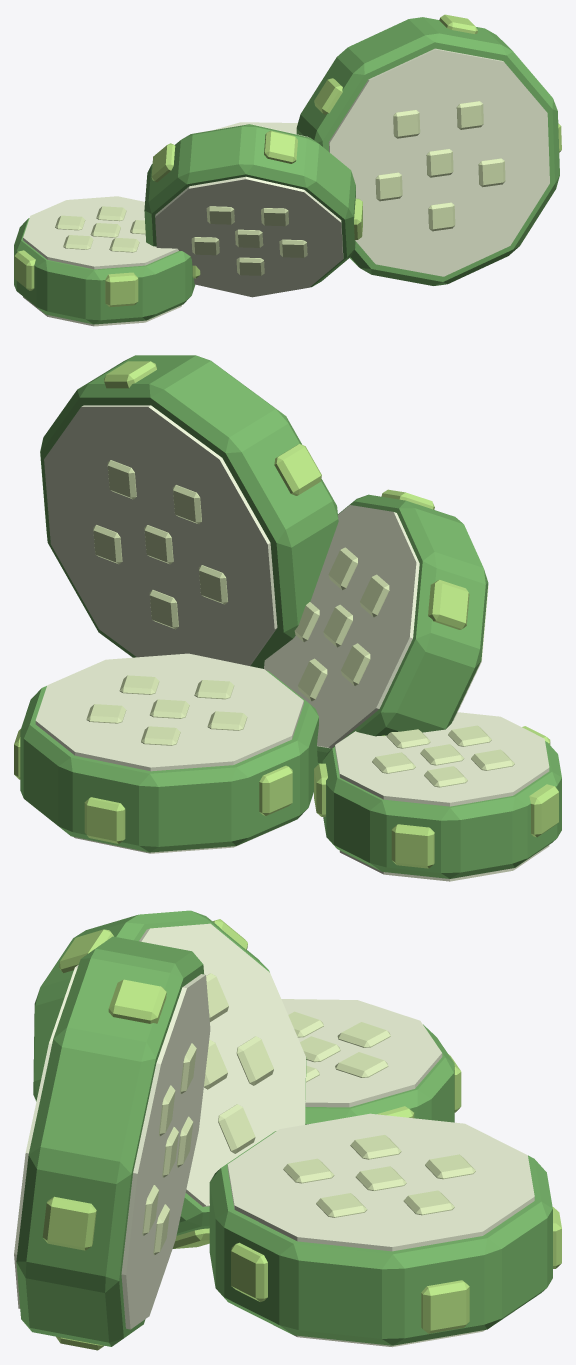
File: SlicedCucumber.fbx
3 views of the same model, one above another, from view 1: azimuth 30°, elevation 25°; view 2: azimuth 150°, elevation 25°; view 3: azimuth 270°, elevation 25° (orthographic). The views are drawn at different scales.
Visible parts, largest first — view 1: SlicedCucumber.Faces, SlicedCucumber.Rims, SlicedCucumber.Seeds, SlicedCucumber.RimStuds; view 2: SlicedCucumber.Faces, SlicedCucumber.Rims, SlicedCucumber.Seeds, SlicedCucumber.RimStuds; view 3: SlicedCucumber.Rims, SlicedCucumber.Faces, SlicedCucumber.Seeds, SlicedCucumber.RimStuds.
Boxes of the visible parts, x1,y1,x2,y2 form: SlicedCucumber.Faces: [23, 48, 549, 326]; SlicedCucumber.Rims: [14, 17, 559, 324]; SlicedCucumber.Seeds: [55, 101, 505, 275]; SlicedCucumber.RimStuds: [14, 14, 561, 307]; SlicedCucumber.Faces: [35, 405, 549, 881]; SlicedCucumber.Rims: [20, 355, 561, 878]; SlicedCucumber.Seeds: [86, 460, 514, 787]; SlicedCucumber.RimStuds: [14, 361, 558, 868]; SlicedCucumber.Rims: [16, 910, 552, 1346]; SlicedCucumber.Faces: [14, 923, 534, 1347]; SlicedCucumber.Seeds: [142, 973, 475, 1255]; SlicedCucumber.RimStuds: [42, 919, 561, 1350].
Size of the model in its own units: 3.36 by 1.77 by 2.28.
